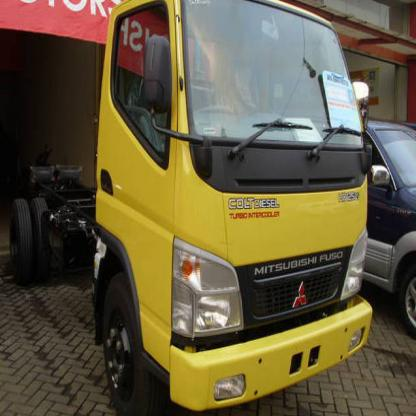truck: (46, 1, 375, 409)
